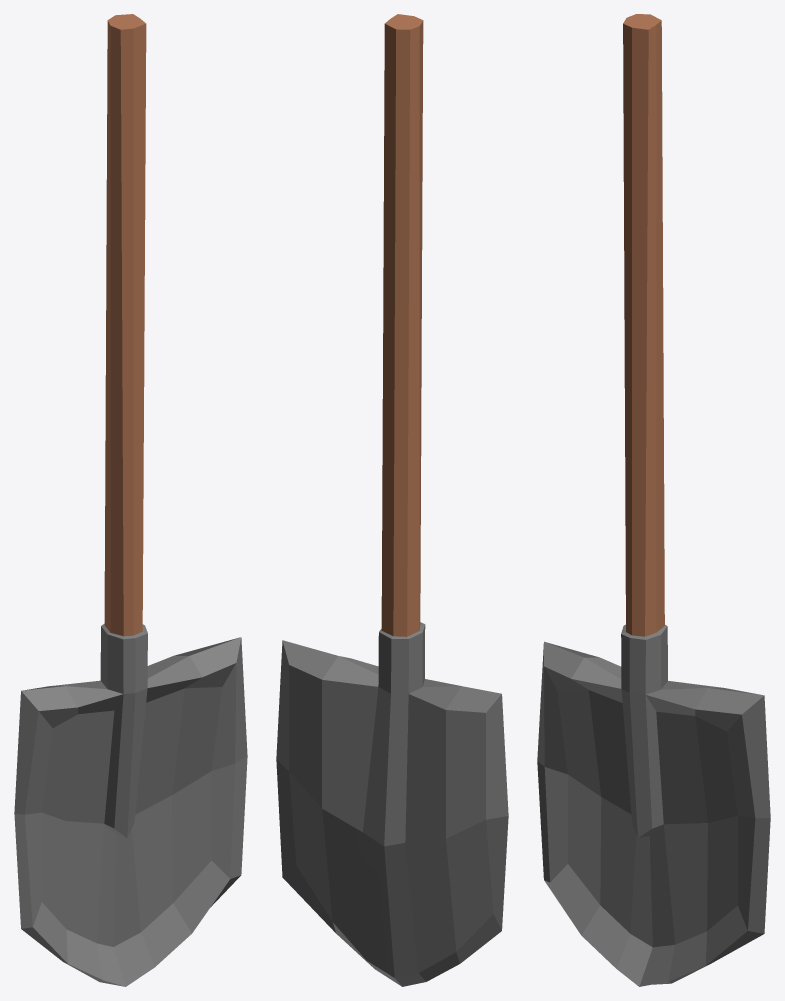
The model's file is FinalShovel.fbx.
3 views of the same model, side by side, from view 1: azimuth 30°, elevation 25°; view 2: azimuth 150°, elevation 25°; view 3: azimuth 330°, elevation 25° (orthographic).
Visible parts, largest first — view 1: Box001; view 2: Box001; view 3: Box001.
Part boxes in pixels (x1=…): Box001: x1=14, y1=14, x2=247, y2=986; Box001: x1=276, y1=14, x2=508, y2=986; Box001: x1=537, y1=14, x2=770, y2=986.
Size of the model in its own units: 42.87 by 170 by 10.6.
